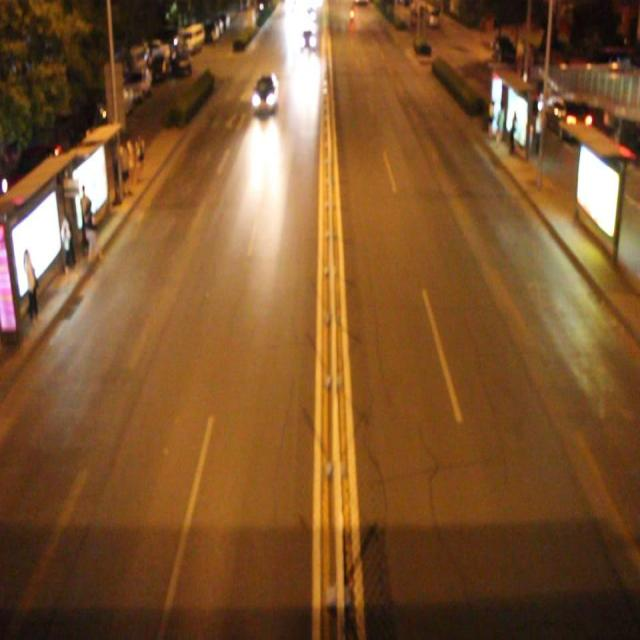car: (250, 70, 278, 114)
